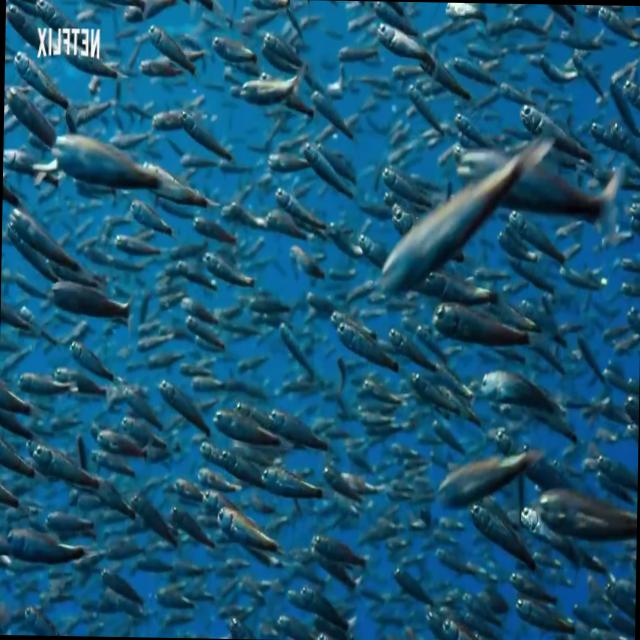fish: (48, 131, 158, 190), (517, 100, 601, 170), (431, 299, 526, 346), (478, 370, 564, 420), (214, 502, 282, 562), (47, 275, 130, 324), (336, 320, 401, 376), (232, 62, 310, 104), (372, 20, 426, 71), (148, 24, 197, 77), (259, 462, 322, 500)
